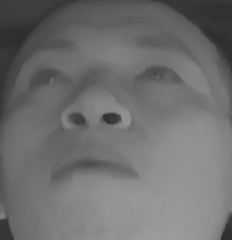eye: (133, 56, 185, 90), (26, 60, 73, 92)
mouth: (46, 141, 138, 197)
